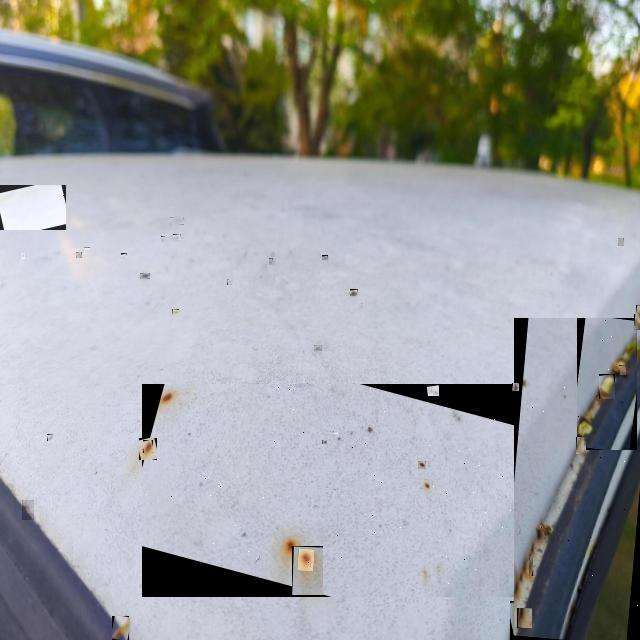Rust: (562, 343, 639, 495), (577, 337, 636, 441), (293, 547, 322, 594), (516, 574, 531, 627), (586, 400, 602, 424), (517, 604, 531, 631), (112, 617, 128, 639), (282, 538, 299, 558), (140, 438, 155, 459), (599, 376, 613, 398), (298, 550, 313, 570), (582, 424, 597, 442), (620, 334, 631, 358), (519, 608, 531, 627), (610, 358, 625, 373), (0, 192, 17, 205), (516, 604, 525, 625), (541, 523, 556, 535), (23, 502, 33, 519), (520, 572, 527, 594), (577, 435, 585, 454), (583, 415, 596, 426), (577, 437, 585, 454), (531, 572, 542, 584), (438, 545, 447, 559), (301, 553, 311, 564), (517, 605, 522, 627), (593, 539, 599, 557), (113, 629, 123, 639), (114, 628, 123, 639), (143, 441, 152, 452), (630, 325, 637, 339), (523, 590, 530, 603), (170, 217, 183, 224), (617, 350, 626, 360), (428, 387, 438, 395), (577, 492, 583, 505), (599, 390, 606, 401), (584, 582, 590, 593), (453, 537, 458, 548), (536, 545, 541, 556), (582, 432, 587, 442), (542, 550, 549, 557), (140, 273, 149, 278), (620, 365, 625, 374), (635, 388, 639, 399), (270, 258, 276, 265), (635, 315, 639, 325), (517, 598, 521, 607), (419, 462, 425, 468), (529, 559, 532, 571), (436, 581, 441, 588), (350, 290, 357, 295), (173, 234, 180, 239), (513, 383, 518, 390), (618, 239, 623, 245), (76, 252, 81, 257), (350, 423, 355, 428), (568, 464, 572, 470), (315, 346, 321, 350), (172, 309, 178, 313), (48, 434, 52, 440), (333, 432, 338, 436), (322, 440, 327, 444), (637, 307, 639, 315), (85, 249, 89, 253), (360, 304, 364, 308), (322, 256, 327, 259), (177, 474, 180, 479), (21, 253, 24, 258), (555, 395, 558, 400), (122, 254, 126, 257), (256, 557, 259, 561), (228, 280, 231, 284), (161, 237, 164, 241), (203, 520, 205, 525)
